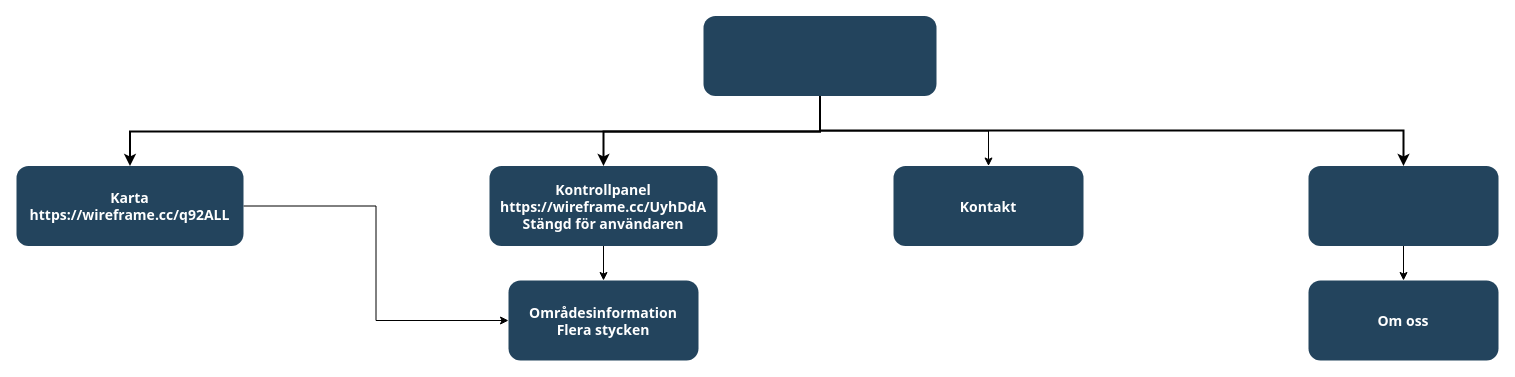
The diagram is 1515 pixels wide and 377 high, and some of its shapes have lost their labels. The centre of each missing label's shape, as x and y in pixels:
"Hem https://wireframe.cc/xoHUvr" belongs at (x=819, y=56).
"Information" belongs at (x=1403, y=206).
